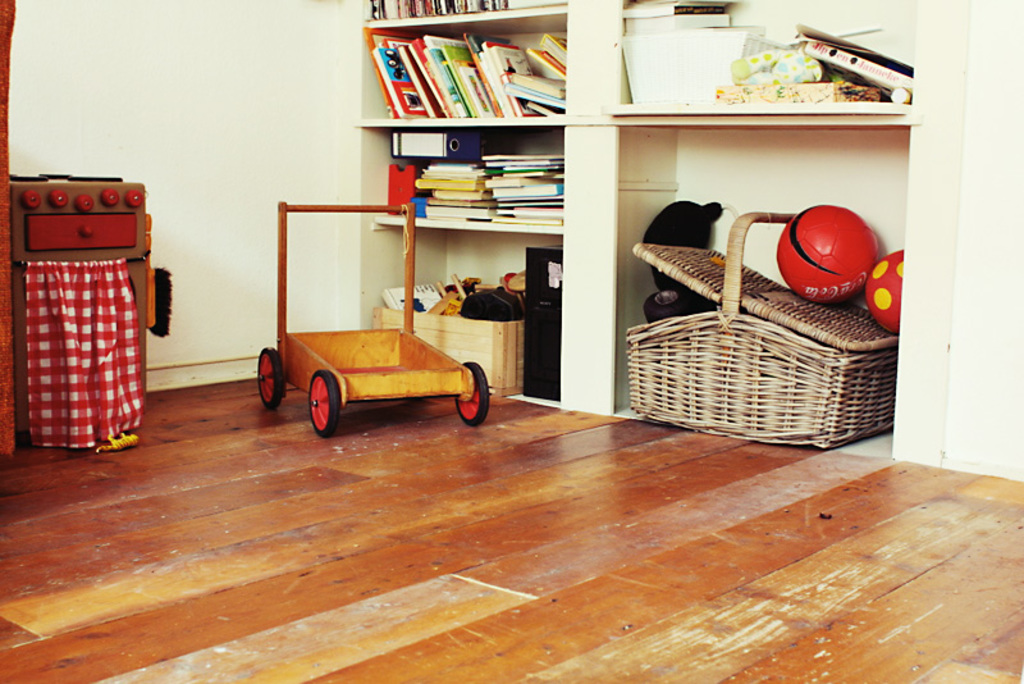Ball: (776, 209, 877, 305), (869, 251, 906, 327)
